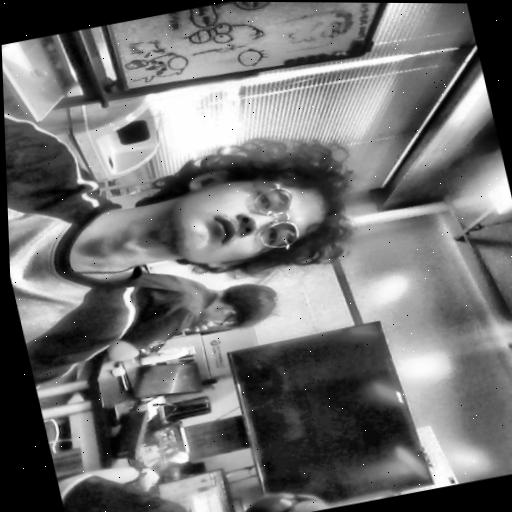Daifuku: (127, 118, 375, 298)
Not Daifuku: (179, 277, 283, 337), (202, 481, 337, 512)
